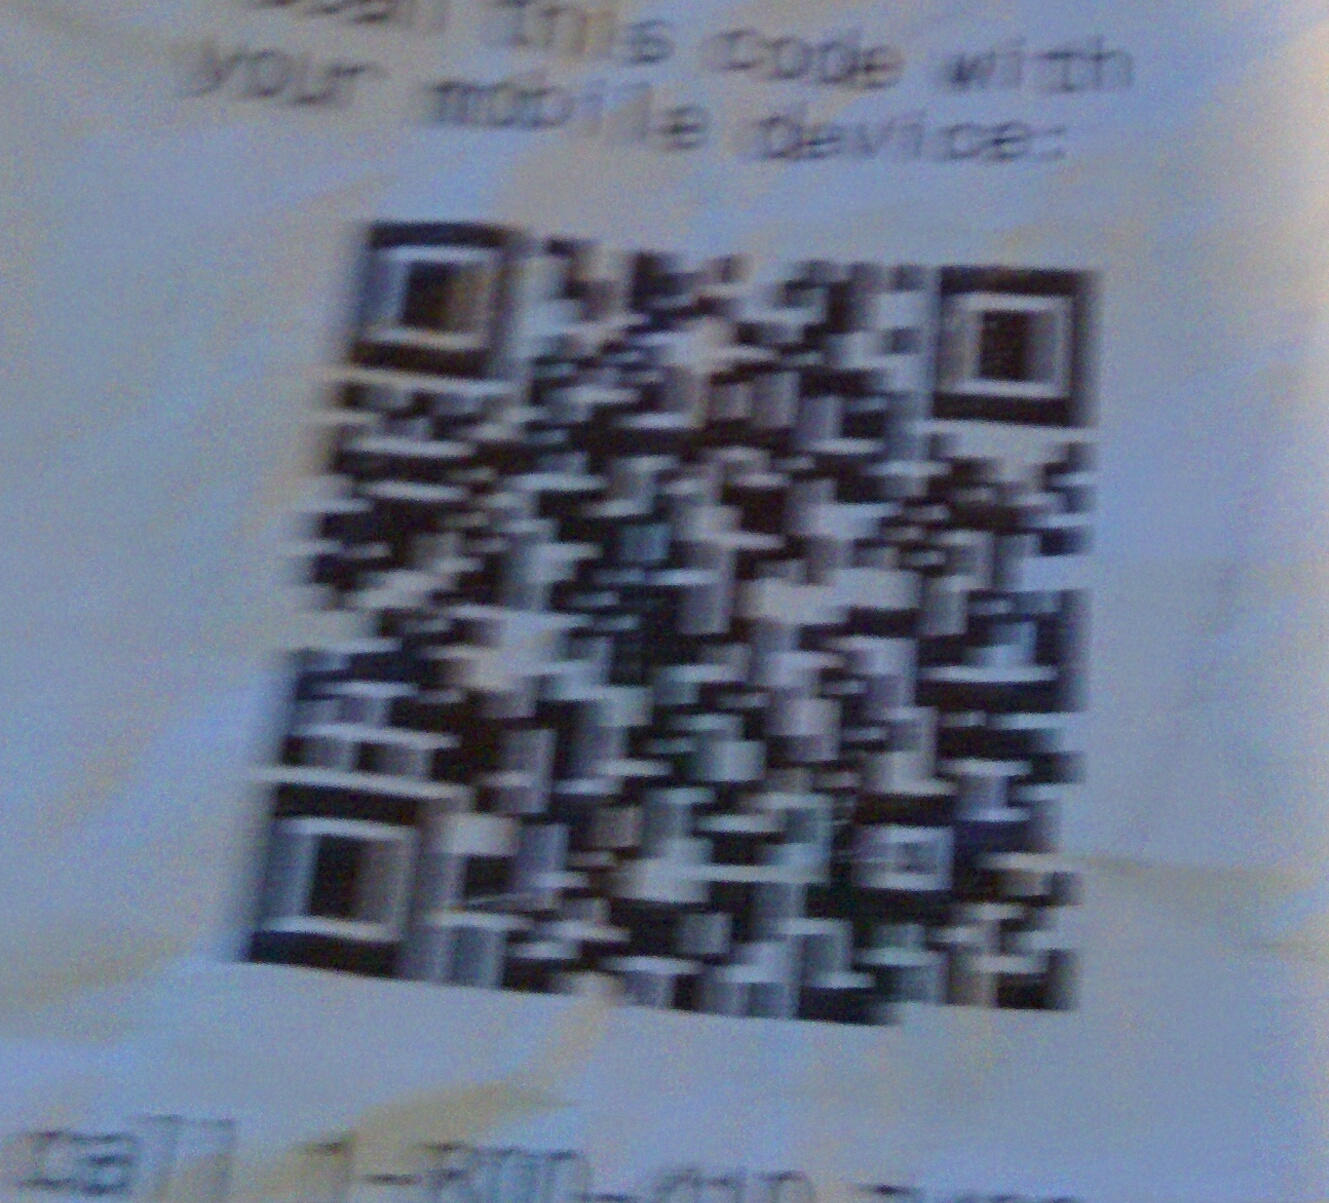QR_CODE: (211, 168, 1126, 1054)
